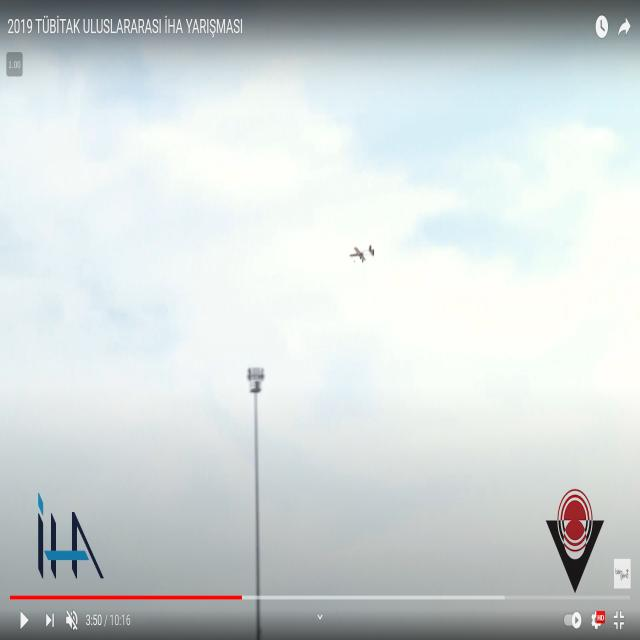iha: (348, 244, 374, 264)
